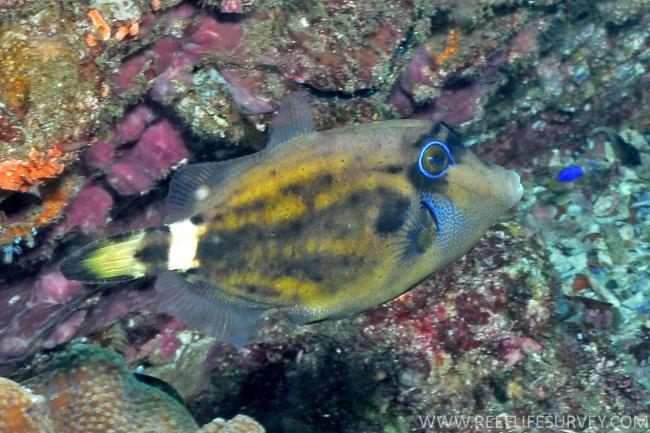fish: (59, 96, 525, 326)
